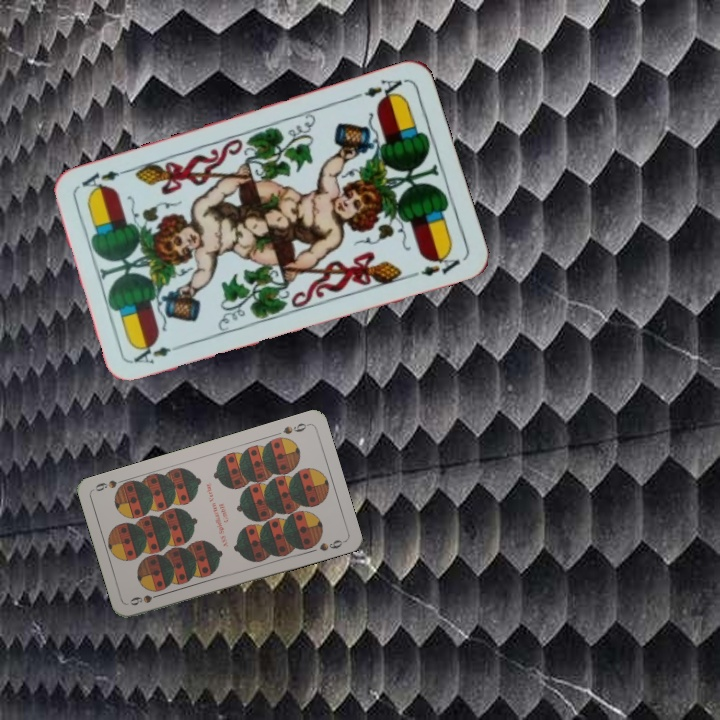EA: (349, 75, 407, 105), (129, 342, 174, 367)
S9: (126, 589, 166, 608), (279, 419, 311, 437)
